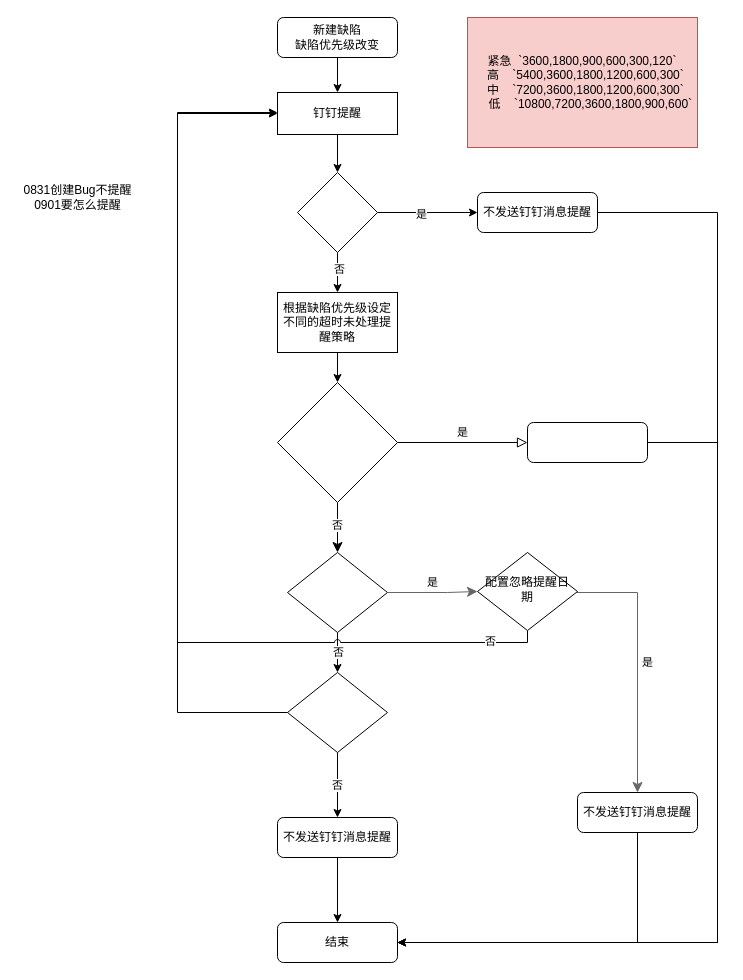
The diagram is 743 pixels wide and 980 high, and some of its shapes have lost their labels. Each missing label, with the box of its shape:
到期校验缺陷状态为已解决 、已验证、已关闭、转入需求池: (276, 382, 398, 502)
工作日、工作时间: (286, 552, 388, 632)
缺陷优先级为无关紧要: (296, 172, 378, 252)
缺陷已解决，不发送钉钉消息提醒: (526, 422, 648, 462)
配置提醒日期: (286, 672, 388, 752)
